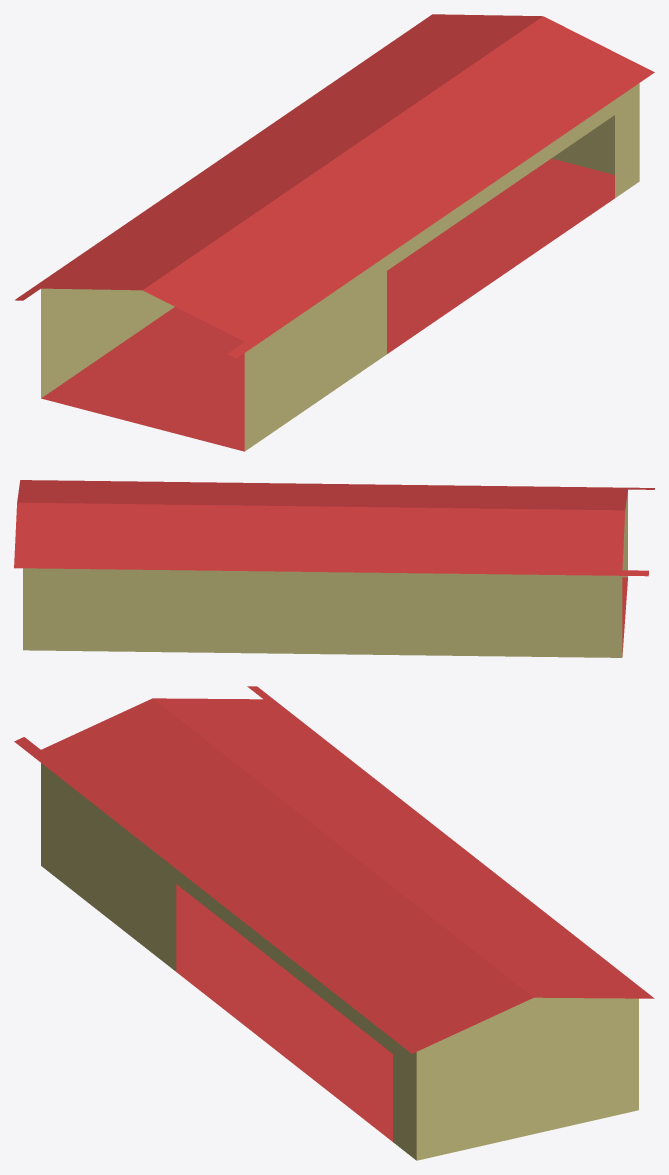
3 renders of one model, top to bottom at view 1: azimuth 30°, elevation 25°; view 2: azimuth 150°, elevation 25°; view 3: azimuth 270°, elevation 25°, orthographic. The views are drawn at different scales.
Bounding box in the file's own units: 55.73 × 41.05 × 10.04.
